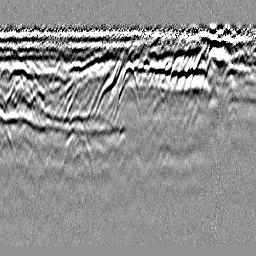cavity: (117, 60, 141, 103)
